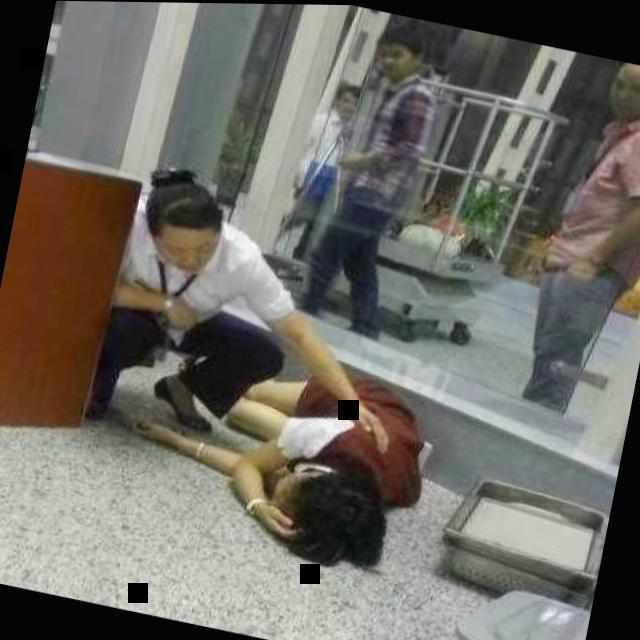Fall-Detected: (111, 305, 462, 589)
